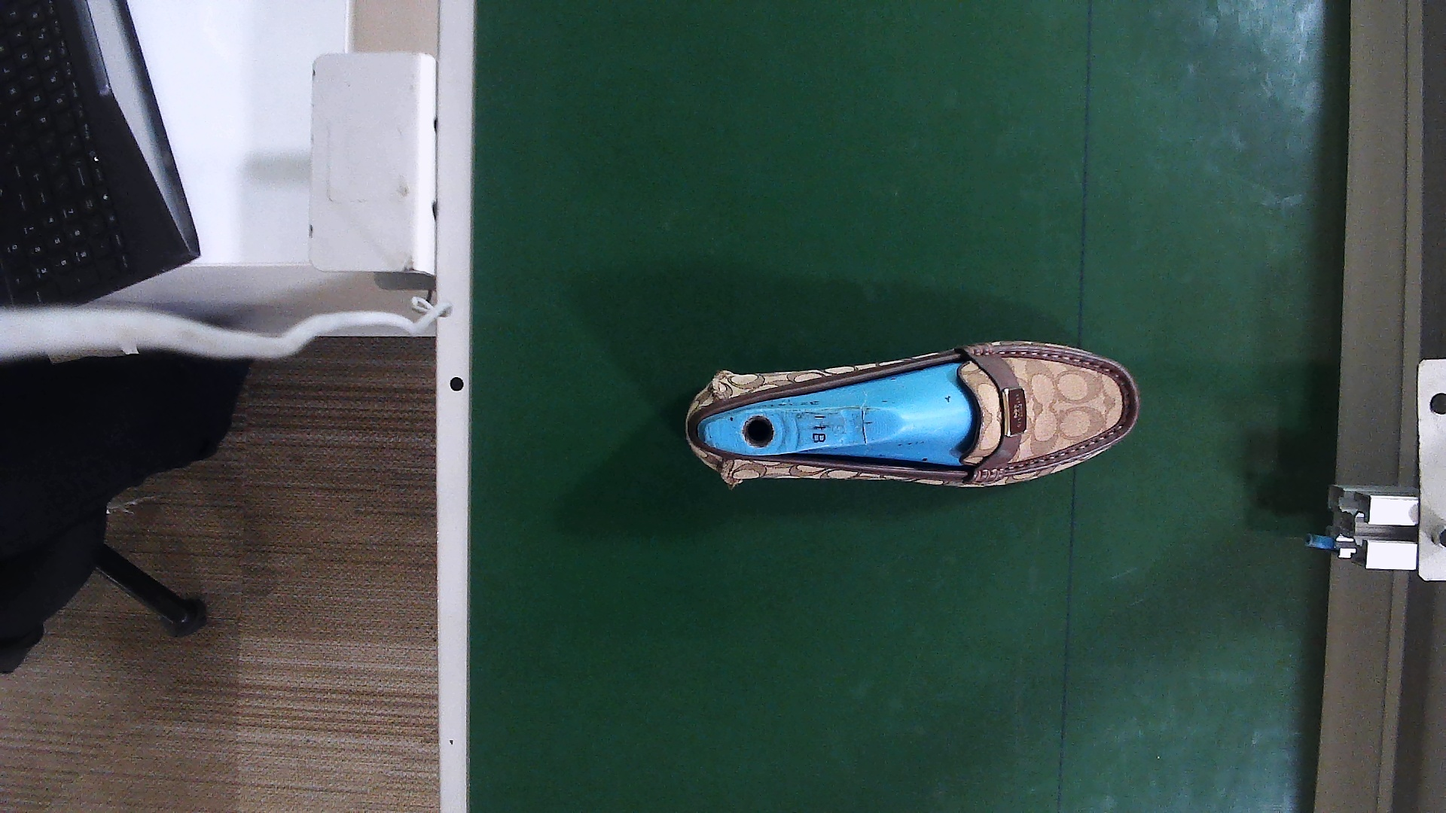shoe: (686, 346, 1139, 488)
